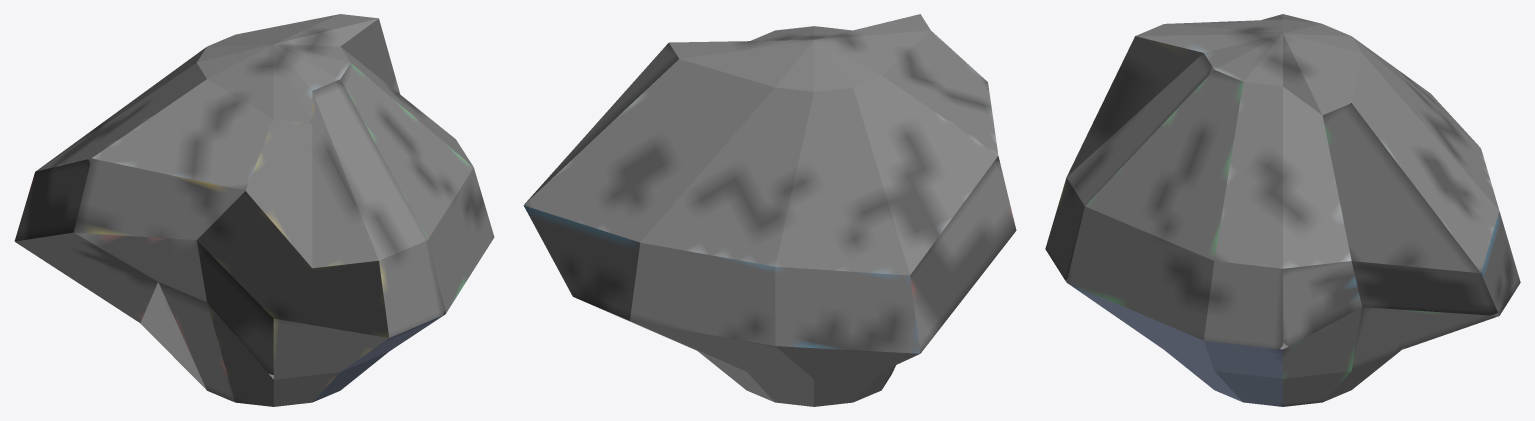
Rendered from smallrock.fbx.
3 views of the same model, side by side, from view 1: azimuth 30°, elevation 25°; view 2: azimuth 150°, elevation 25°; view 3: azimuth 270°, elevation 25° (orthographic). The views are drawn at different scales.
Parts seen in each view (by area): view 1: sphere; view 2: sphere; view 3: sphere.
Boxes of the visible parts, <box> form: sphere: <box>14,14,494,406</box>; sphere: <box>523,14,1016,406</box>; sphere: <box>1045,14,1520,406</box>.
Bounding box in the file's own units: 37.5 × 31.25 × 37.5.
1 material, 1 textured.
